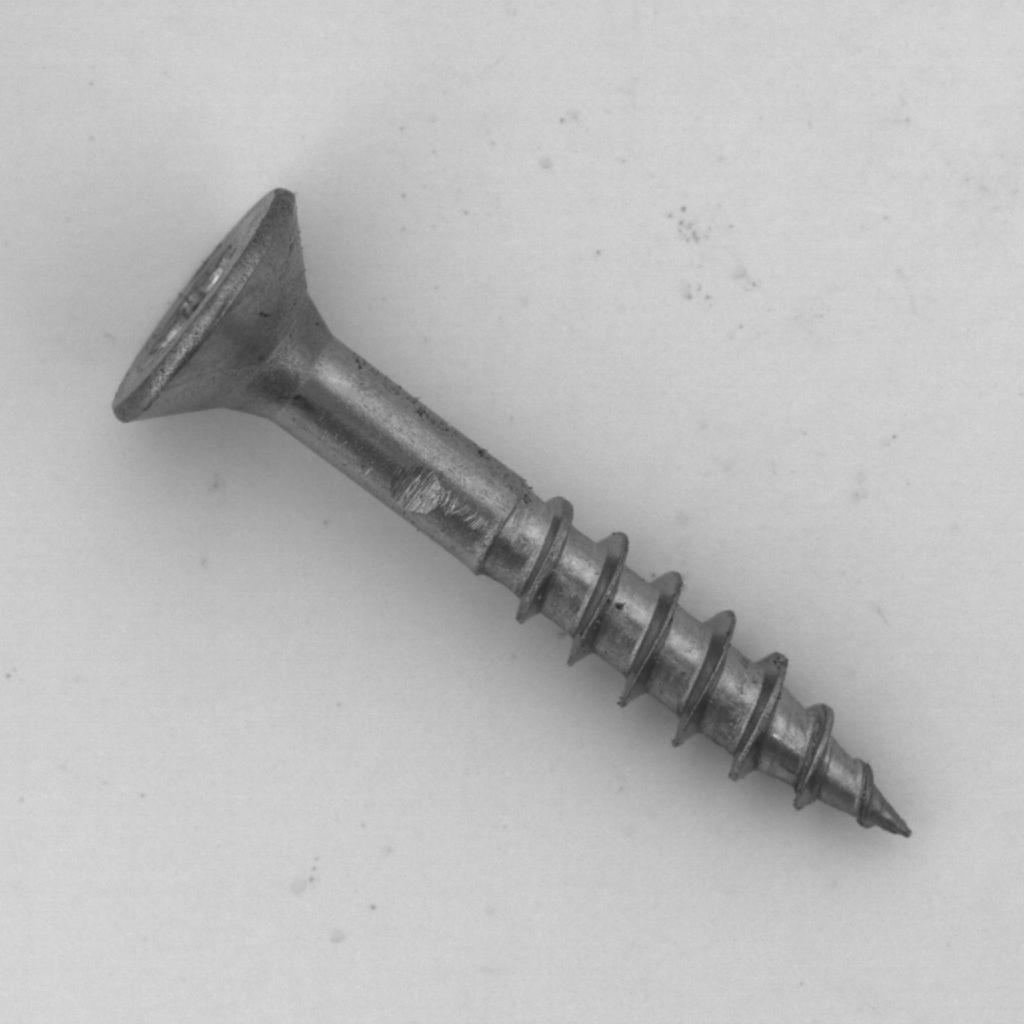thread_top: (232, 522, 500, 777)
